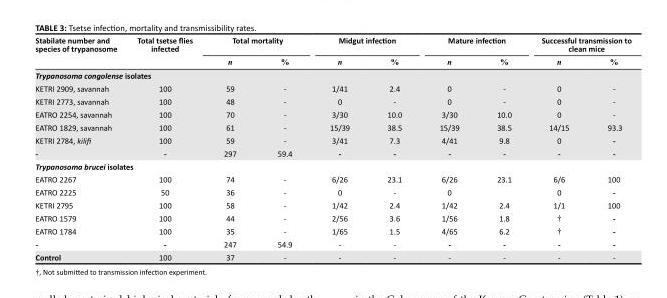table: (34, 34, 630, 261)
table column: (34, 34, 126, 261), (126, 34, 207, 261), (525, 34, 587, 261), (419, 34, 477, 261), (310, 34, 367, 261), (256, 34, 310, 261), (367, 34, 419, 261), (207, 34, 256, 261), (477, 34, 525, 261), (587, 34, 630, 261)
table column header: (34, 34, 630, 67)
table projected row header: (34, 67, 630, 81), (34, 159, 630, 172)
table row: (34, 34, 630, 54), (34, 67, 630, 81), (34, 54, 630, 67), (34, 81, 630, 94), (34, 94, 630, 107), (34, 107, 630, 120), (34, 120, 630, 133), (34, 133, 630, 146), (34, 146, 630, 159), (34, 159, 630, 172), (34, 172, 630, 185), (34, 185, 630, 198), (34, 198, 630, 211), (34, 211, 630, 224), (34, 224, 630, 237), (34, 237, 630, 250), (34, 250, 630, 261)
table spanning cell: (34, 34, 126, 67), (126, 34, 207, 67), (310, 34, 419, 54), (419, 34, 525, 54), (525, 34, 630, 54), (207, 34, 310, 54)
